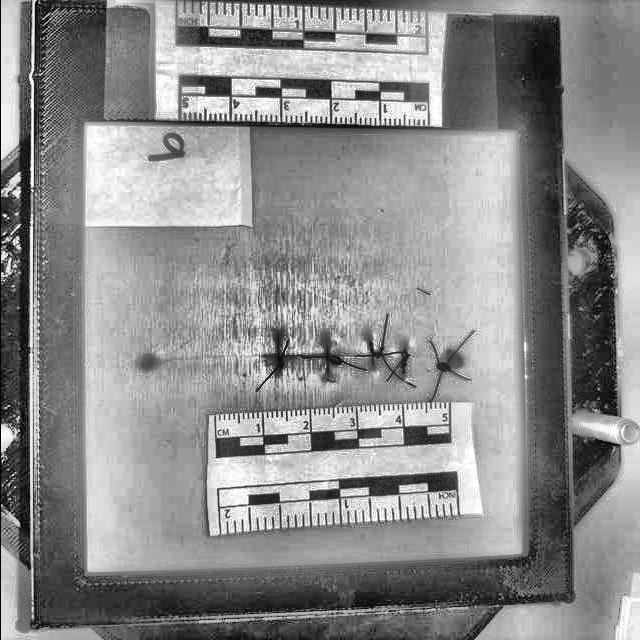incision_line: (147, 354, 450, 362)
scale_marker: (262, 410, 309, 430)
suture_d: (278, 340, 326, 350), (326, 342, 368, 350), (371, 348, 403, 354), (404, 348, 434, 354)
suture_l: (429, 339, 439, 357), (273, 338, 283, 354), (369, 344, 375, 354), (324, 347, 329, 358), (400, 350, 406, 358)
suture_r: (324, 357, 330, 375), (434, 356, 442, 368), (275, 354, 283, 364), (400, 358, 404, 372), (370, 356, 374, 366)
